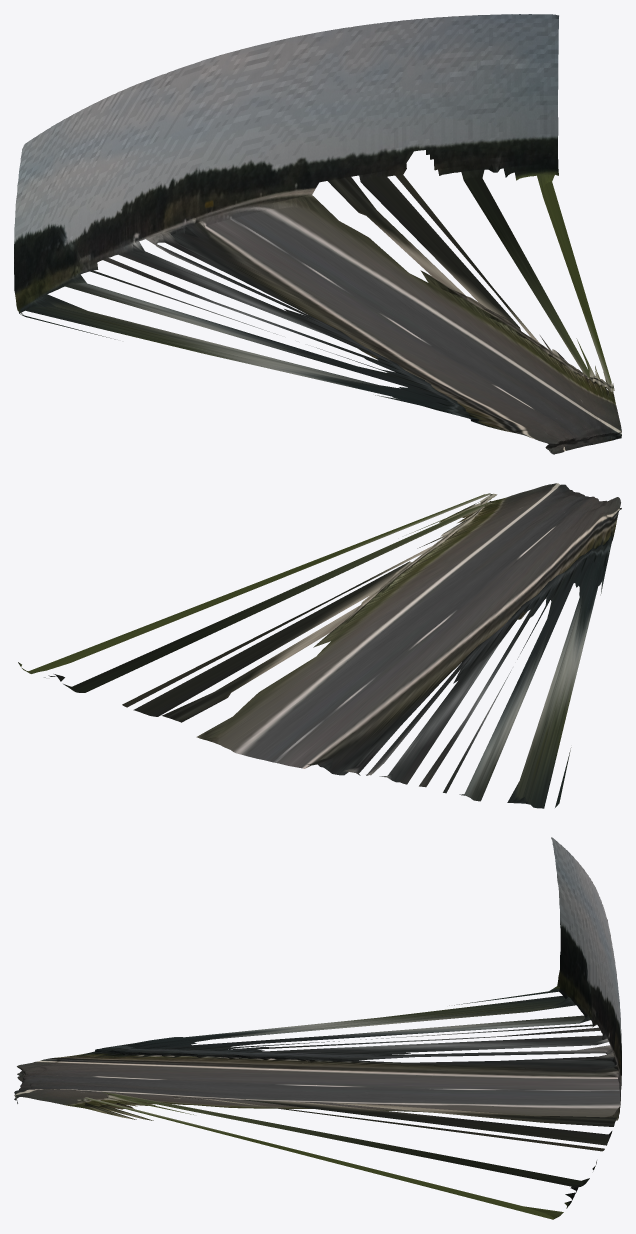
3 renders of one model, top to bottom at view 1: azimuth 30°, elevation 25°; view 2: azimuth 150°, elevation 25°; view 3: azimuth 270°, elevation 25°, orthographic. The views are drawn at different scales.
Parts seen in each view (by area): view 1: defaultobject; view 2: defaultobject; view 3: defaultobject.
Part boxes in pixels (box(x1,y1,x2,y2)): defaultobject: box(14, 14, 621, 454); defaultobject: box(18, 483, 621, 808); defaultobject: box(14, 837, 621, 1219).
Size of the model in its own units: 41.16 by 13.27 by 44.23.
Materials: 1 (1 with a texture image).
